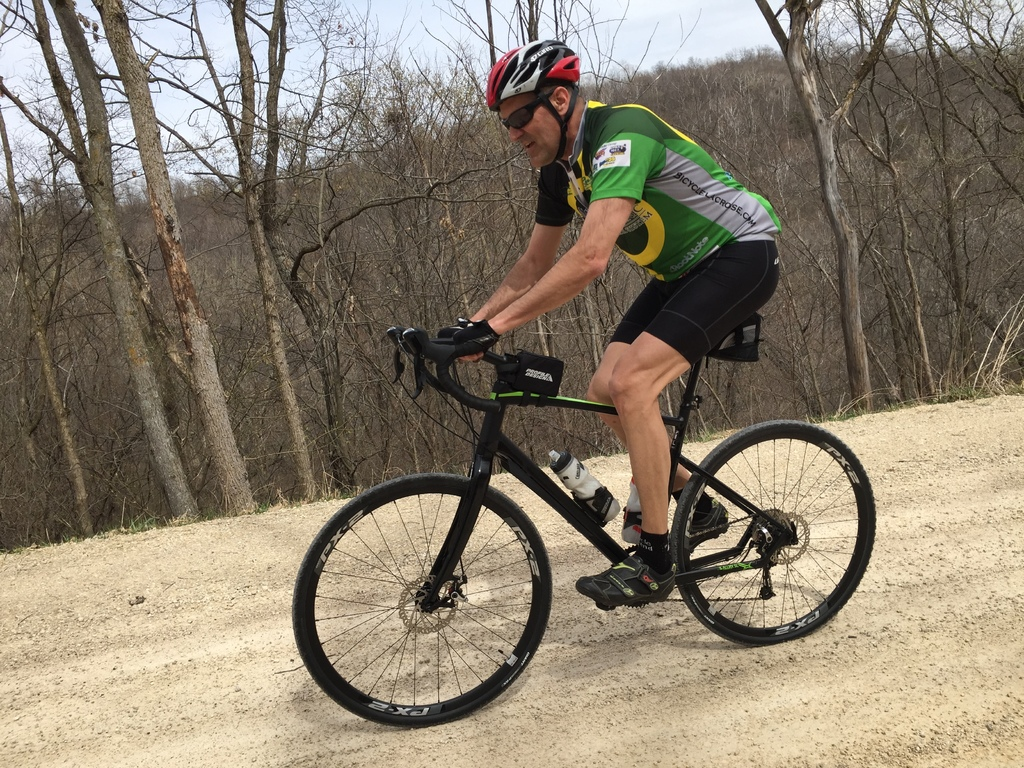Bike_toward: (284, 339, 866, 687)
